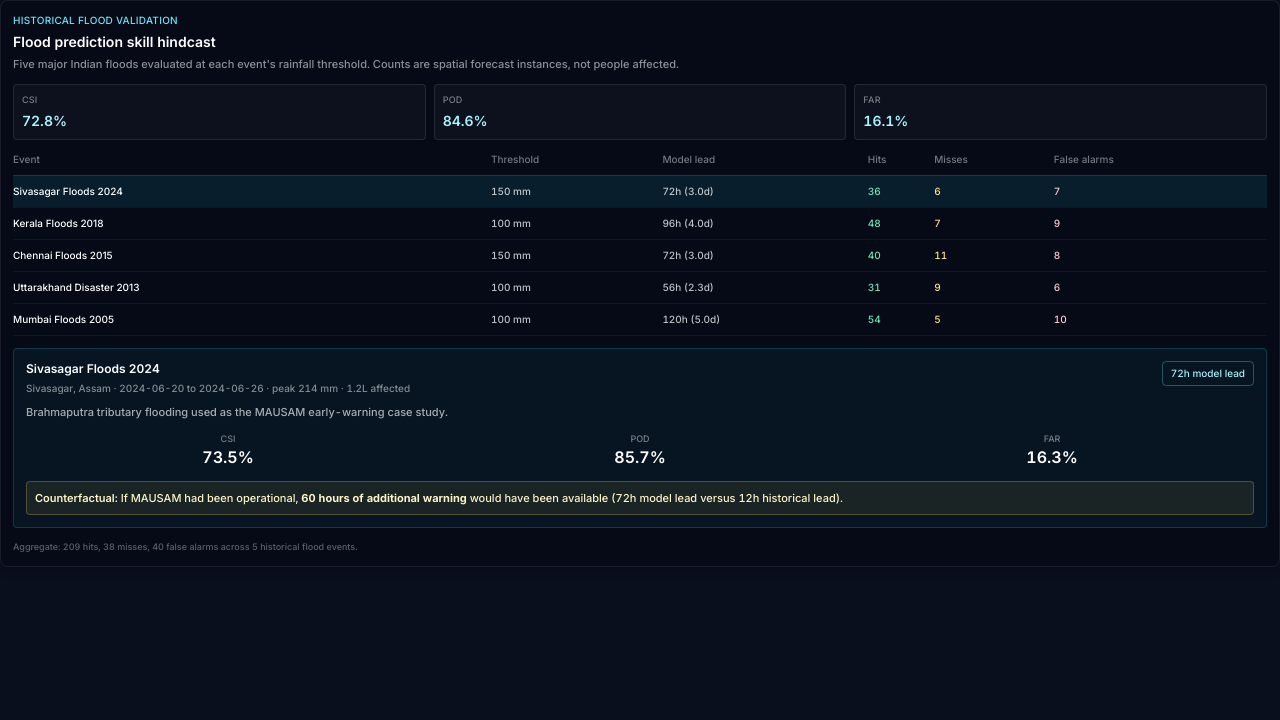
Test case: HistoricalFloodValidation › displays event hit/miss lead time and a selected-event counterfactual
Expected: the heading "Flood prediction skill hindcast" is shown, [13,33,216,50]
Expected: the button "Sivasagar Floods 2024" is shown, [13,184,123,198]
What coordinates should you click on to do the following:
click the button "Mumbai Floods 2005"
I would click on:
 (64, 319)
Its box is [13,312,114,326].
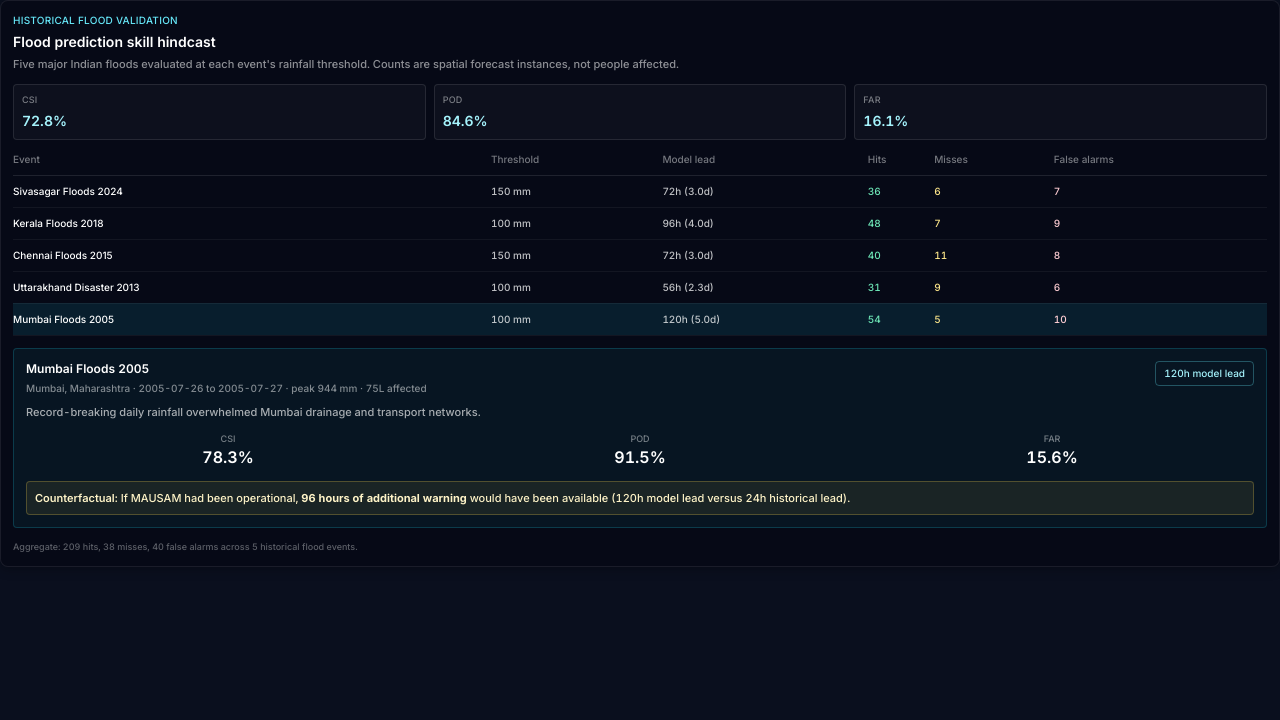
Now the text "96 hours of additional warning" is shown, box [301,491,467,505]
Now the text "120h model lead versus 24h historical lead" is shown, box [26,481,1254,515]
